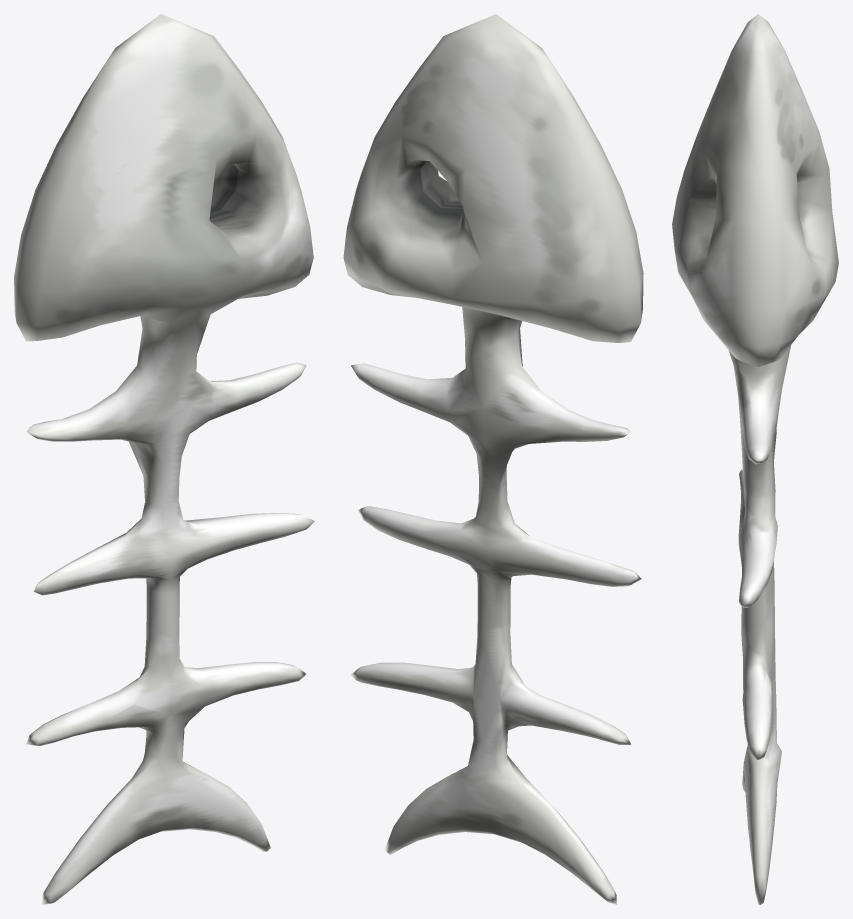
Rendered from fishBone.fbx.
3 views of the same model, side by side, from view 1: azimuth 30°, elevation 25°; view 2: azimuth 150°, elevation 25°; view 3: azimuth 270°, elevation 25° (orthographic). The views are drawn at different scales.
Parts seen in each view (by area): view 1: fish_bone; view 2: fish_bone; view 3: fish_bone.
Part boxes in pixels (left/top/right/bottom): fish_bone: left=14, top=14, right=314, bottom=904; fish_bone: left=343, top=14, right=643, bottom=904; fish_bone: left=672, top=14, right=838, bottom=904.
Size of the model in its own units: 83.41 by 234 by 42.04.
